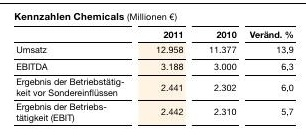table: (0, 0, 306, 136)
